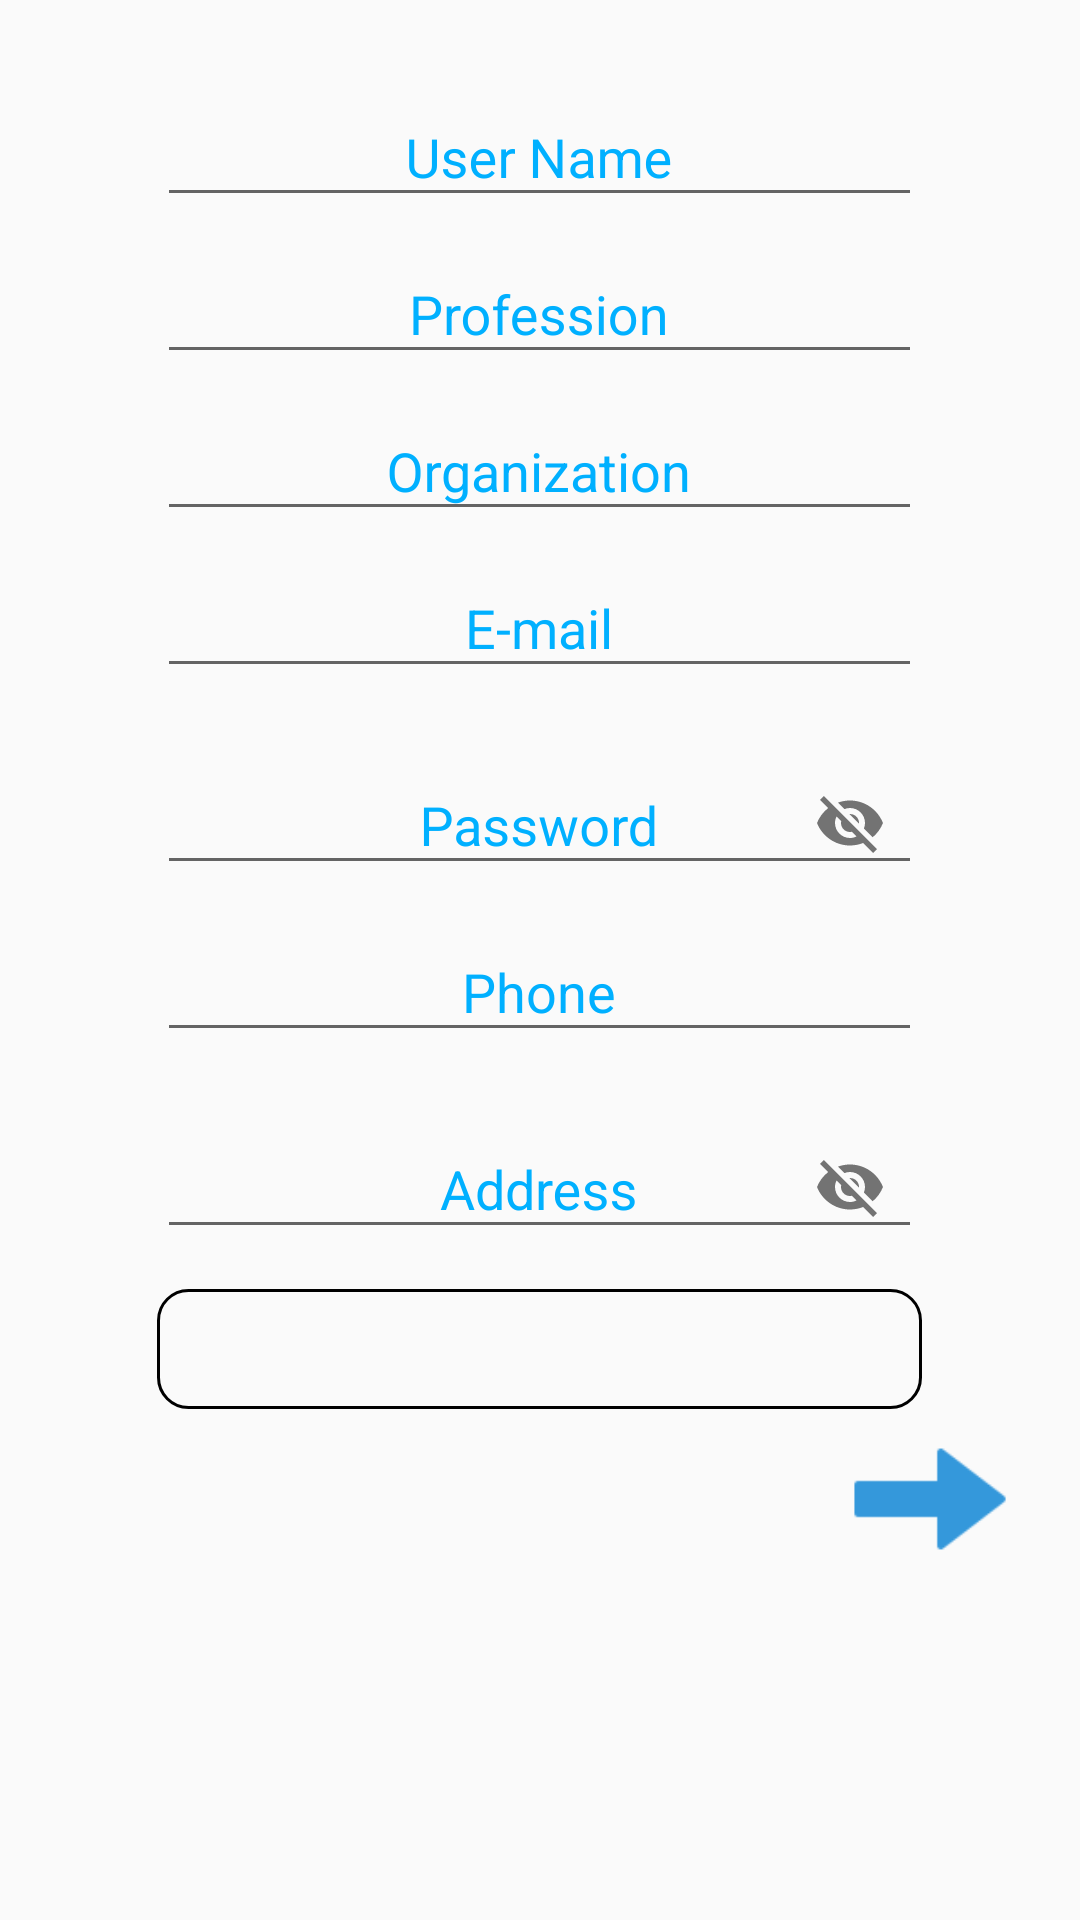

Where icons sit on this 1080x1920 app screen, as (x1, y1, x2, y2):
right arrow: (854, 1448, 1006, 1550)
